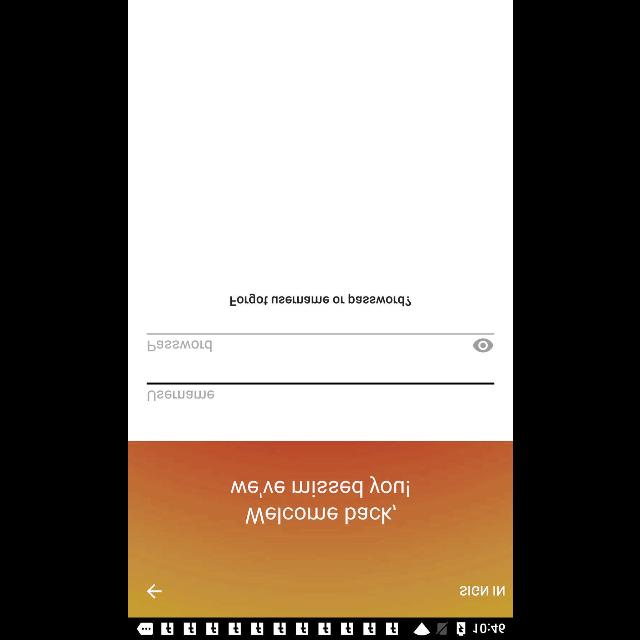icon: (472, 338, 492, 352), (146, 584, 162, 598)
input: (146, 382, 494, 402), (146, 333, 494, 352)
text: (230, 476, 408, 524), (230, 294, 410, 306), (147, 340, 211, 352), (146, 391, 214, 402), (458, 586, 504, 596)
uppertaskbar: (128, 617, 512, 639)
